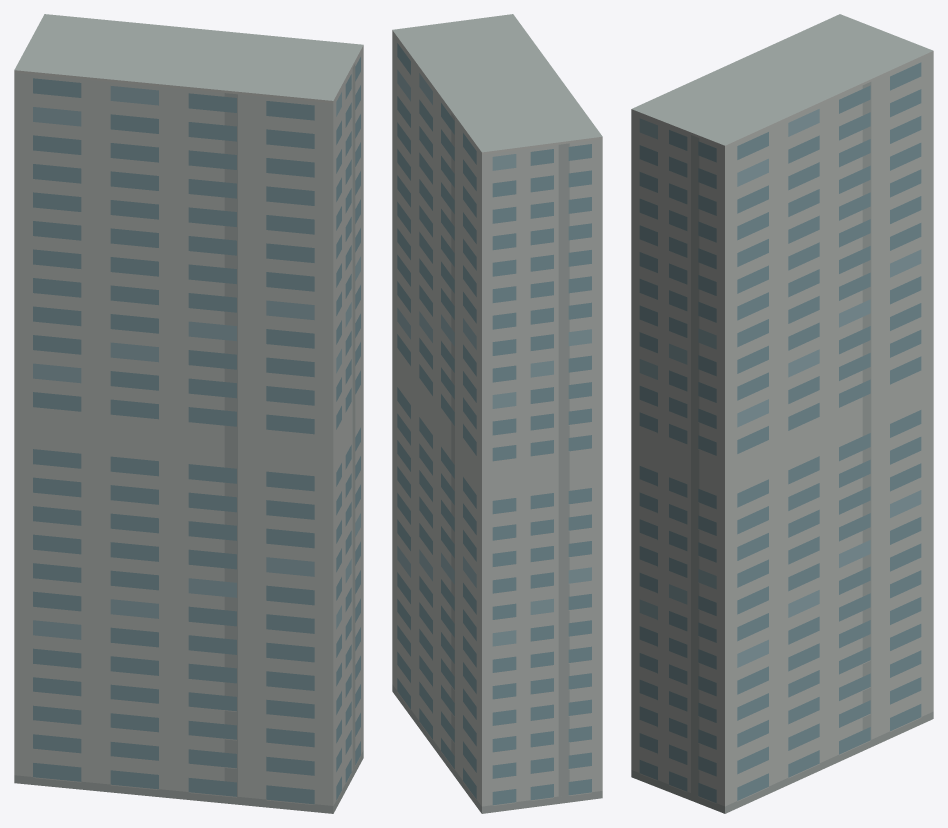
The model's file is residential-d4685d94-0b77-4bf3-9d2f-92a049d2a3e7.glb.
The picture shows the model from 3 angles, left to right: view 1: azimuth 30°, elevation 25°; view 2: azimuth 150°, elevation 25°; view 3: azimuth 270°, elevation 25°; orthographic projection. The views are drawn at different scales.
Parts seen in each view (by area): view 1: residential-d4685d94-0b77-4bf3-9d2f-92a049d2a3e7.tmp; view 2: residential-d4685d94-0b77-4bf3-9d2f-92a049d2a3e7.tmp; view 3: residential-d4685d94-0b77-4bf3-9d2f-92a049d2a3e7.tmp.
Boxes of the visible parts, bbox=[...] form: residential-d4685d94-0b77-4bf3-9d2f-92a049d2a3e7.tmp: bbox=[14, 14, 363, 813]; residential-d4685d94-0b77-4bf3-9d2f-92a049d2a3e7.tmp: bbox=[392, 14, 602, 813]; residential-d4685d94-0b77-4bf3-9d2f-92a049d2a3e7.tmp: bbox=[631, 14, 933, 813].
Bounding box in the file's own units: 28.77 × 68 × 27.89.
